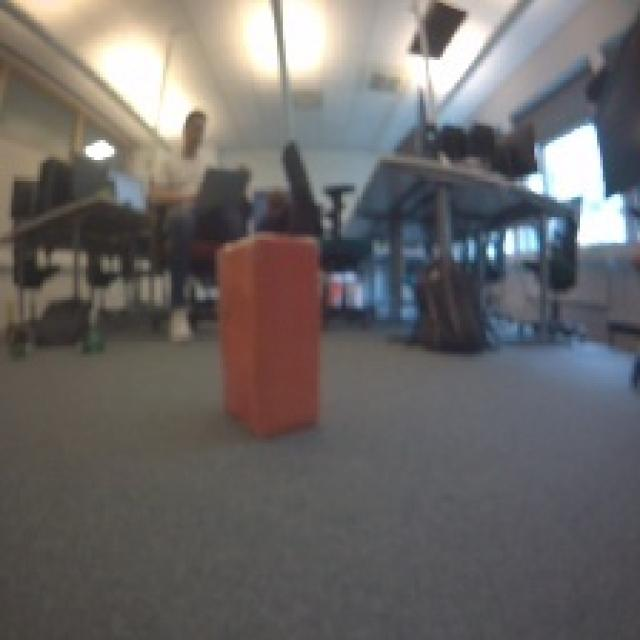robot: (0, 320, 34, 366), (73, 322, 112, 358)
target: (211, 229, 323, 437)
